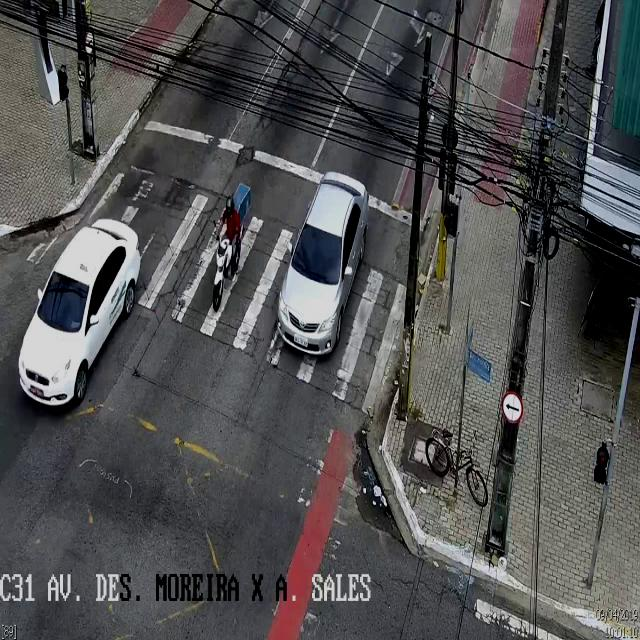Car: (16, 220, 138, 406), (278, 172, 368, 356)
Motorcycle: (212, 183, 249, 309)
